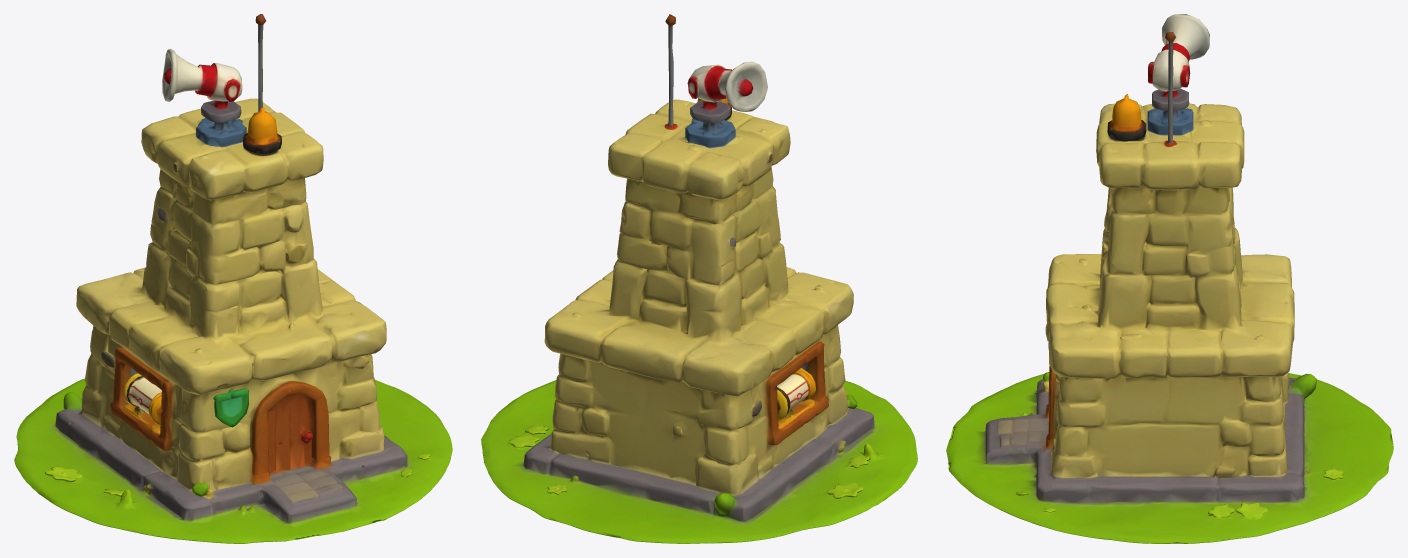
File: warning_tower.glb
The picture shows the model from 3 angles, left to right: view 1: azimuth 30°, elevation 25°; view 2: azimuth 150°, elevation 25°; view 3: azimuth 270°, elevation 25°; orthographic projection.
Visible parts, largest first — view 1: tripo_node_426da9a7-0f61-47fc-b19a-72fe1271bc80; view 2: tripo_node_426da9a7-0f61-47fc-b19a-72fe1271bc80; view 3: tripo_node_426da9a7-0f61-47fc-b19a-72fe1271bc80.
Boxes of the visible parts, x1=… form: tripo_node_426da9a7-0f61-47fc-b19a-72fe1271bc80: x1=14, y1=14, x2=452, y2=543; tripo_node_426da9a7-0f61-47fc-b19a-72fe1271bc80: x1=481, y1=14, x2=917, y2=543; tripo_node_426da9a7-0f61-47fc-b19a-72fe1271bc80: x1=946, y1=14, x2=1393, y2=543.
Bounding box in the file's own units: 0.9273 × 1 × 0.9356.
1 material, 1 textured.
